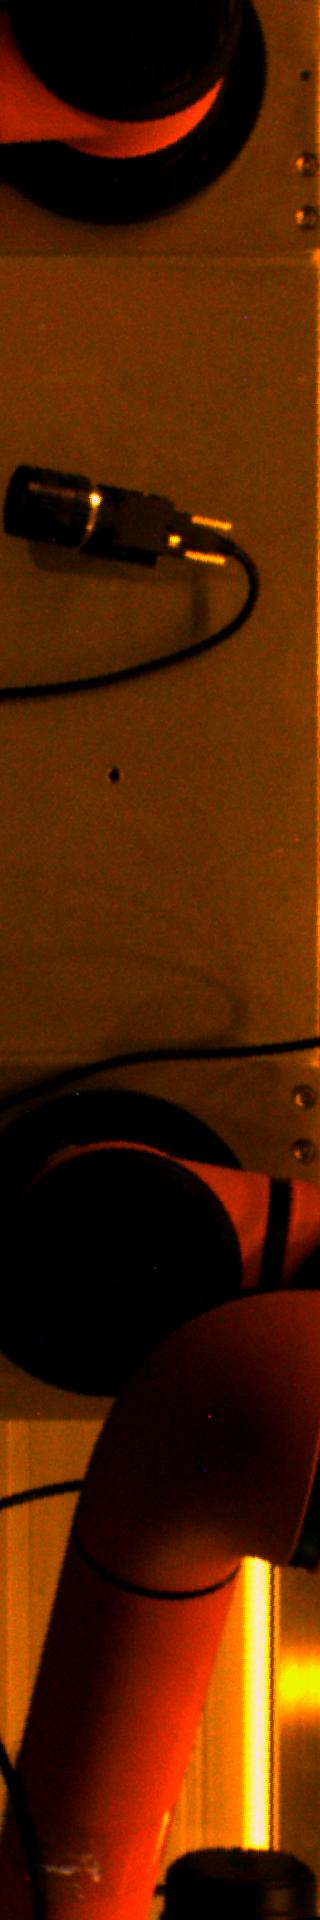keyPoint_2: (98, 760, 128, 791)
